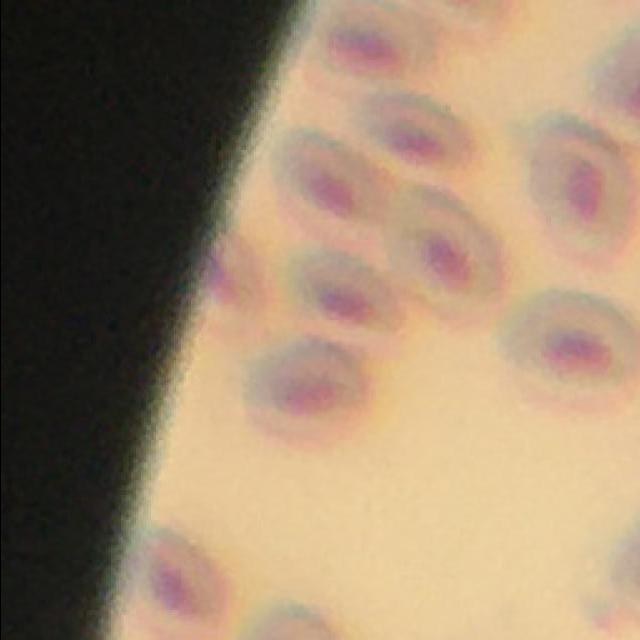RBC: (380, 184, 510, 329), (521, 111, 638, 268), (493, 288, 640, 412), (234, 333, 376, 448), (264, 127, 392, 248), (278, 247, 408, 355), (122, 524, 241, 640), (298, 0, 436, 96), (349, 90, 478, 176), (193, 232, 269, 350)
